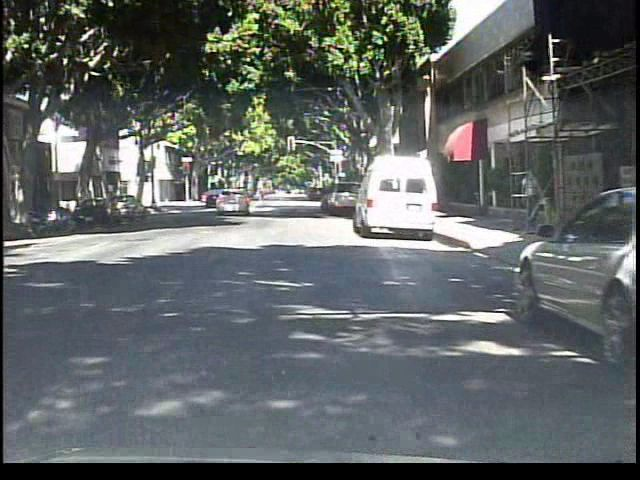person: (517, 163, 543, 232), (250, 178, 271, 211)
